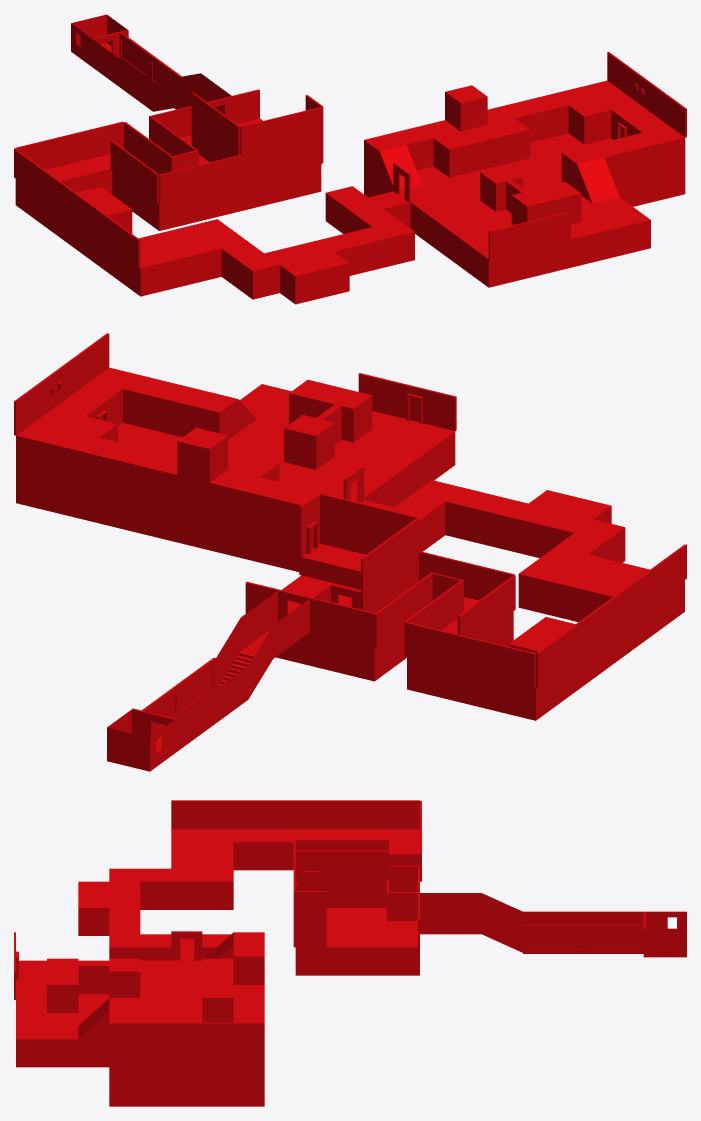
Rendered from layoutJoin.fbx.
The picture shows the model from 3 angles, top to bottom: view 1: azimuth 30°, elevation 25°; view 2: azimuth 150°, elevation 25°; view 3: azimuth 270°, elevation 25°; orthographic projection. The views are drawn at different scales.
Parts seen in each view (by area): view 1: Room_001.001; view 2: Room_001.001; view 3: Room_001.001.
Part boxes in pixels (x1,y1,x2,y2): Room_001.001: (14,14,686,304); Room_001.001: (14,333,686,771); Room_001.001: (14,800,686,1106).
Bounding box in the file's own units: 5740 × 900 × 6499.
